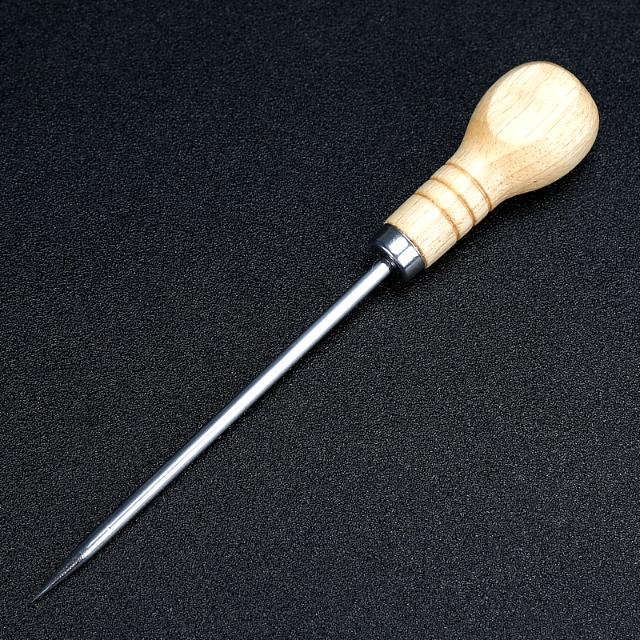ice pick: (32, 58, 600, 600)
